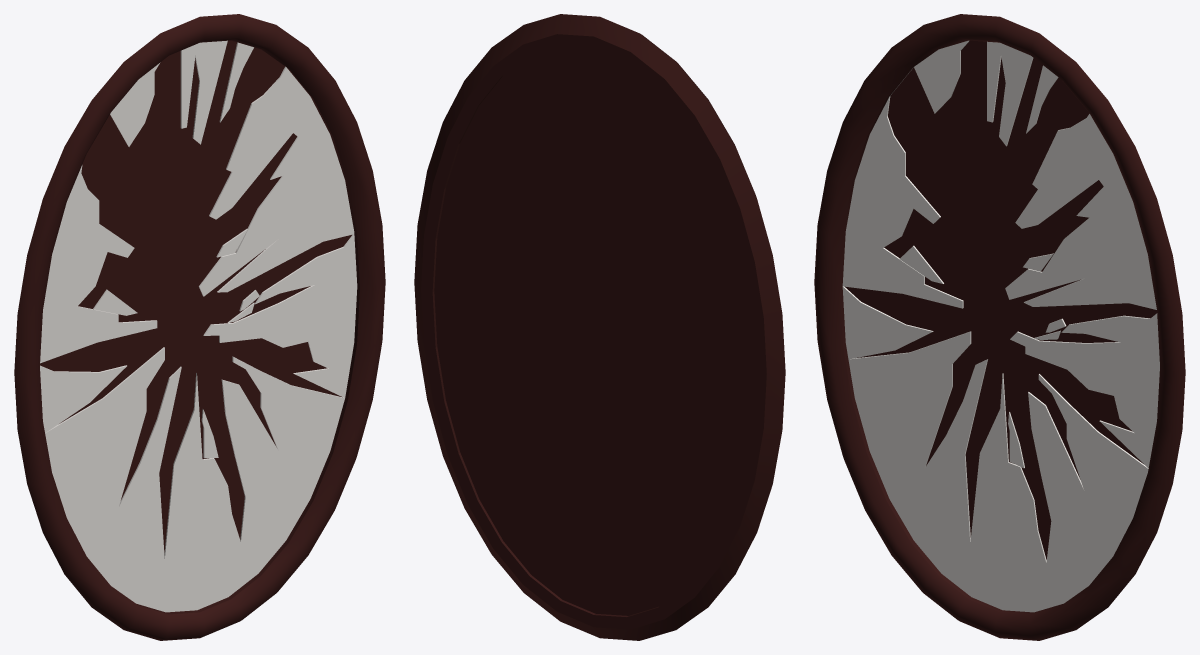
3 views of the same model, side by side, from view 1: azimuth 30°, elevation 25°; view 2: azimuth 150°, elevation 25°; view 3: azimuth 330°, elevation 25° (orthographic).
Parts seen in each view (by area): view 1: Mesh2, Mesh1; view 2: Mesh1; view 3: Mesh1, Mesh2.
Part boxes in pixels (box(x1,y1,x2,y2)): Mesh2: box(40, 40, 357, 612); Mesh1: box(14, 14, 385, 640); Mesh1: box(414, 14, 785, 640); Mesh1: box(814, 14, 1185, 640); Mesh2: box(842, 40, 1159, 612).
Size of the model in its own units: 1.25 by 2 by 0.0619.
